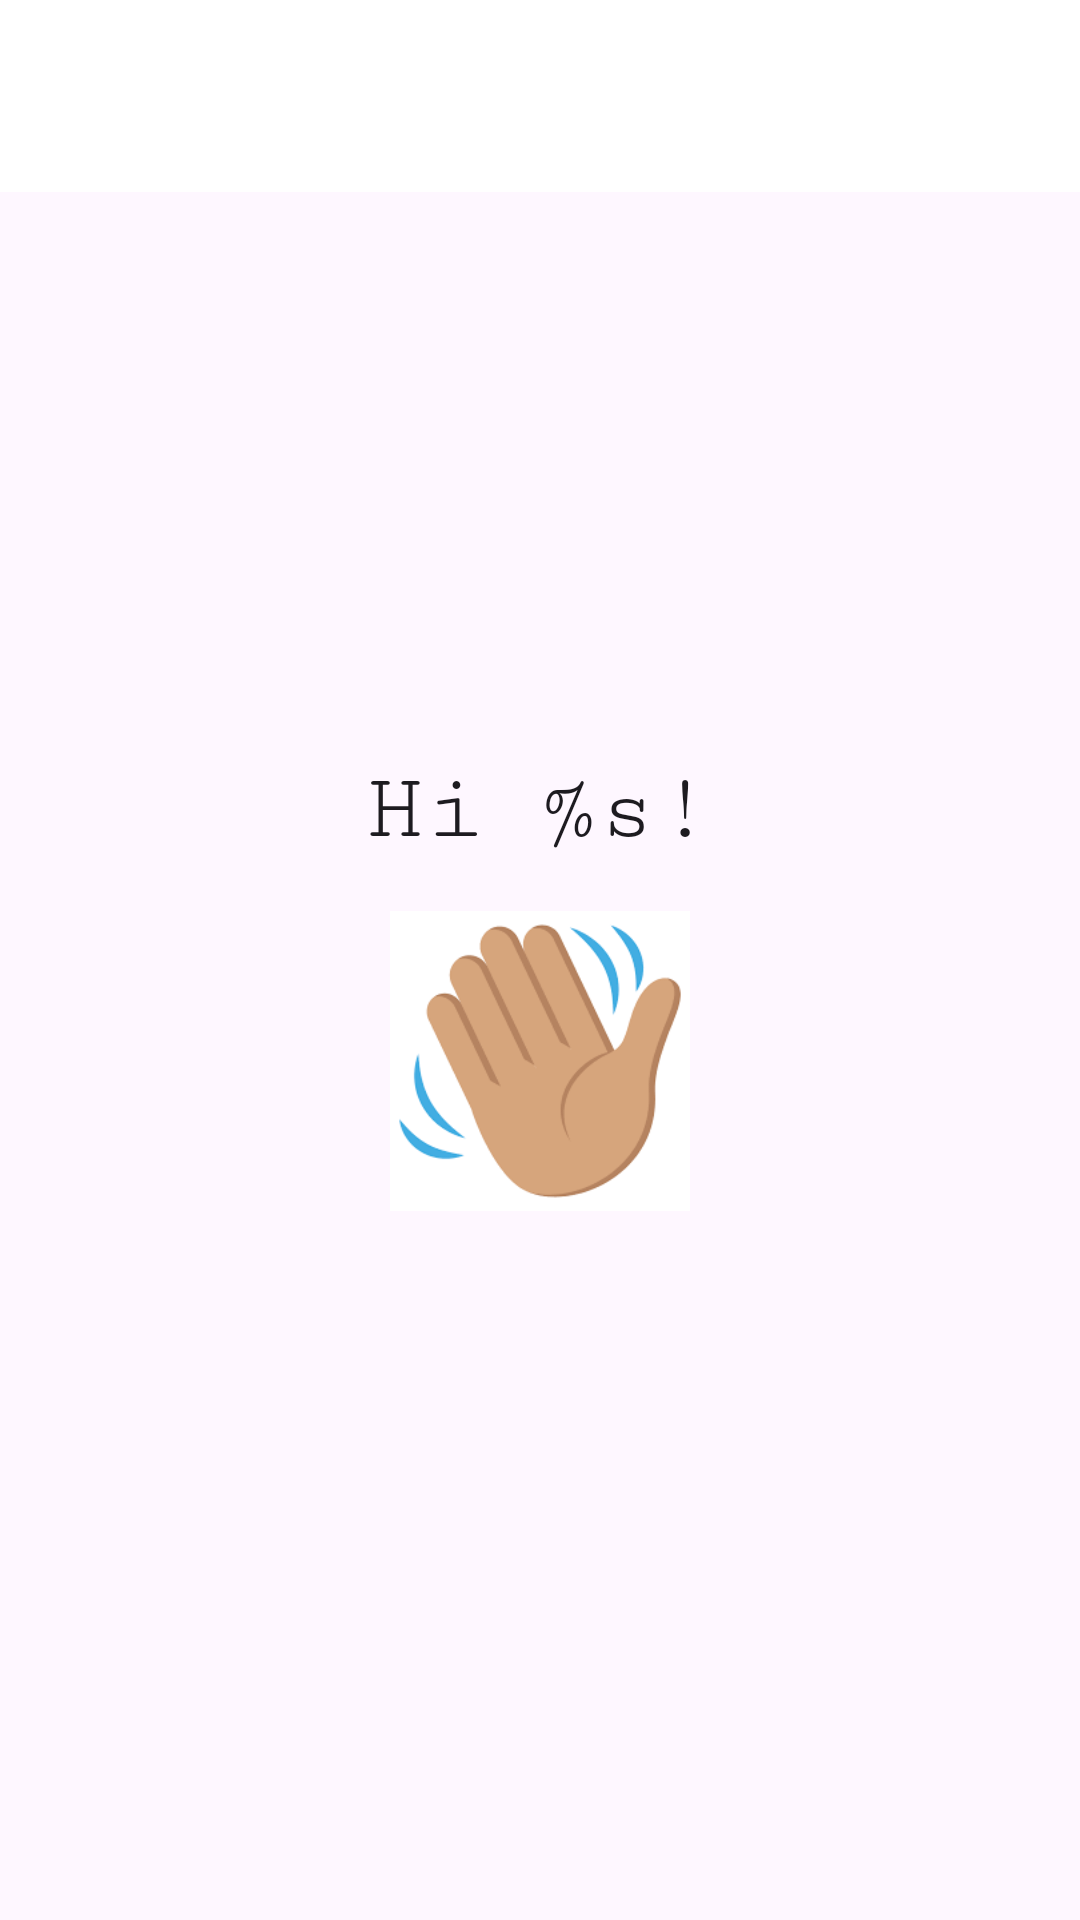

Where icons sit on this 1080x1920 app screen, as (left=x1, top=y1, right=x2, bottom=y2):
waving hand: (left=399, top=924, right=681, bottom=1198)
